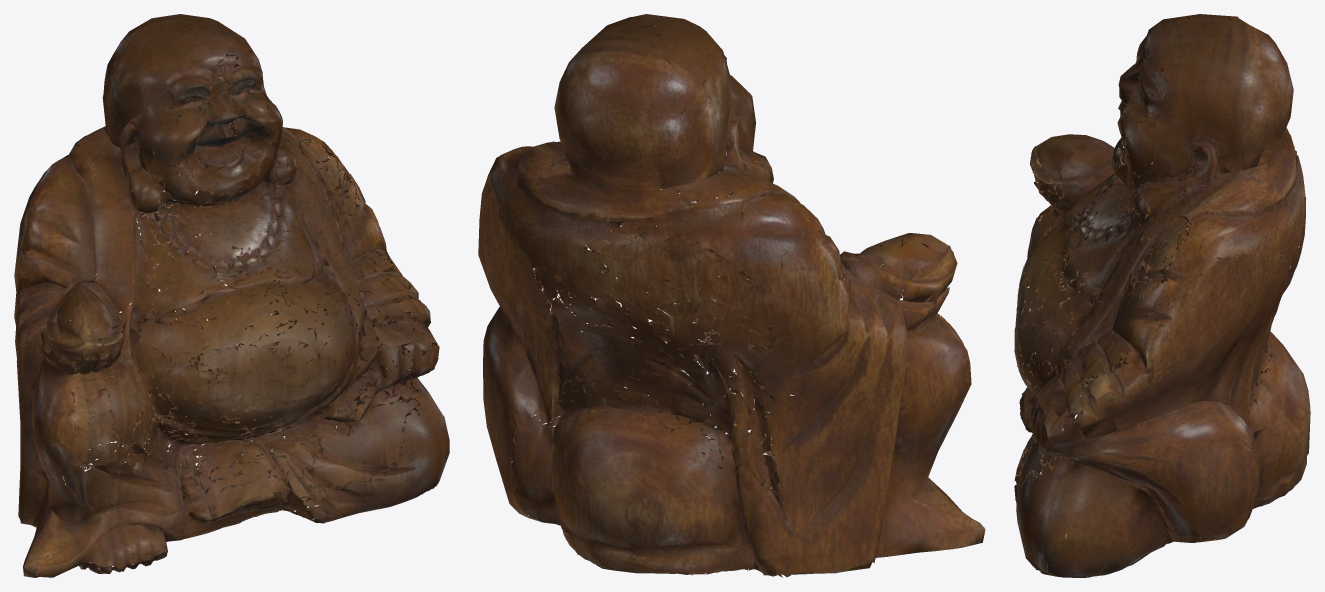
3 renders of one model, left to right at view 1: azimuth 30°, elevation 25°; view 2: azimuth 150°, elevation 25°; view 3: azimuth 270°, elevation 25°, orthographic. The views are drawn at different scales.
Visible parts, largest first — view 1: statue-024; view 2: statue-024; view 3: statue-024.
Boxes of the visible parts, x1,y1,x2,y2 form: statue-024: (14, 14, 449, 577); statue-024: (478, 14, 985, 577); statue-024: (1014, 14, 1310, 577).
Bounding box in the file's own units: 0.9814 × 1 × 0.5763.
1 material, 1 textured.
